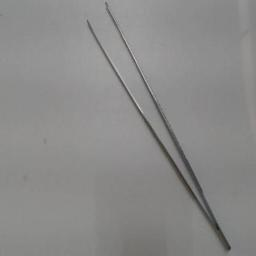DeBakey Dissector: (82, 2, 236, 254)
